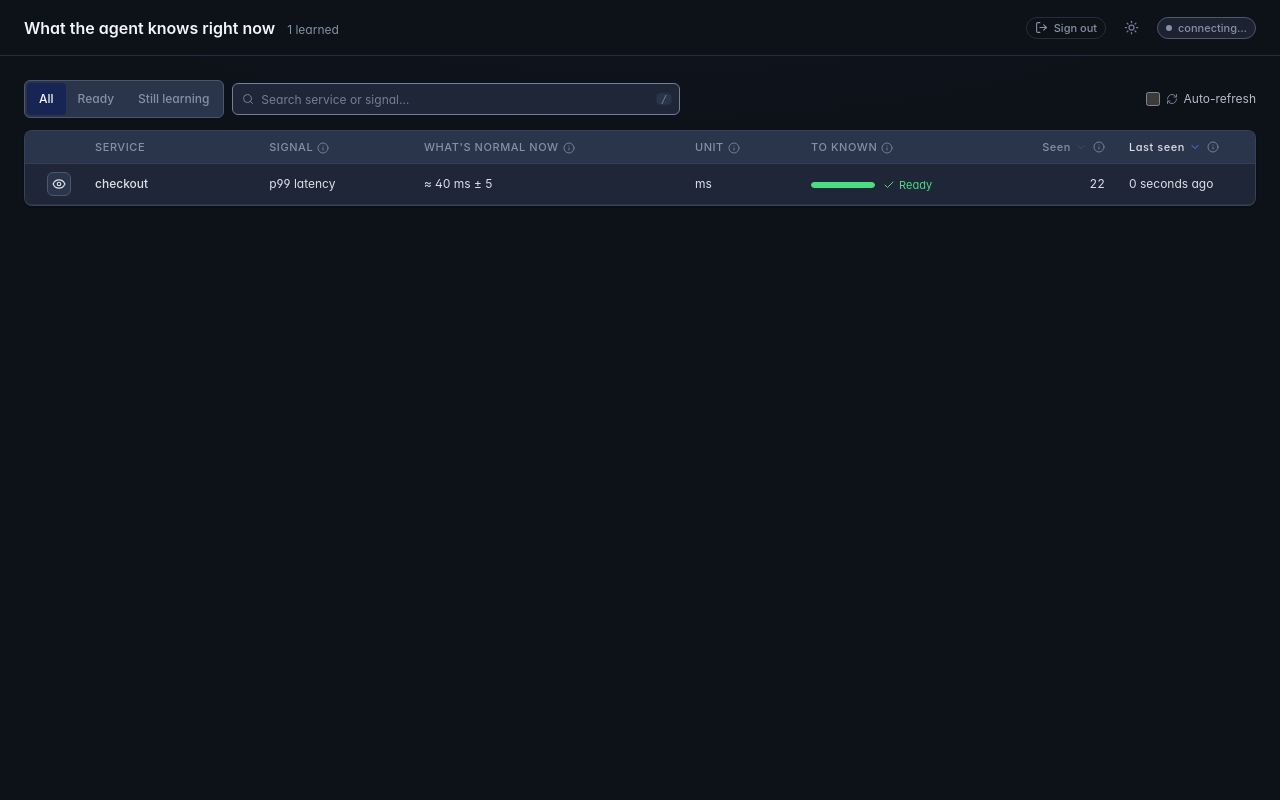
Test: LearnedSignalsView peek — raw-sample-store 'Example metric/trace' › degrades to 'No example captured yet' when latest_sample is absent (community/OSS)
Click the button titled "View details" at (59,184), box [47, 172, 71, 196]
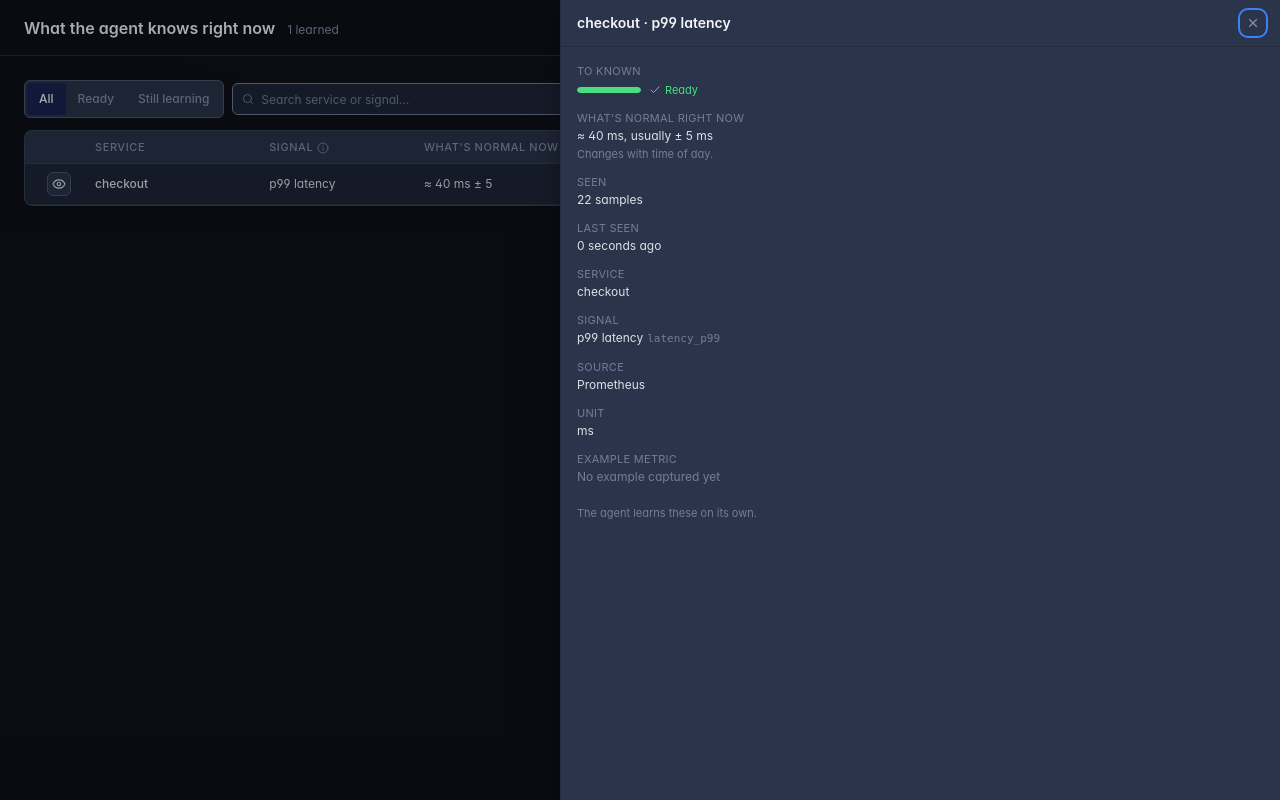
Expected: the text "Example metric" is shown, [577, 452, 677, 466]
Expected: the text "No example captured yet" is shown, [577, 469, 720, 484]
